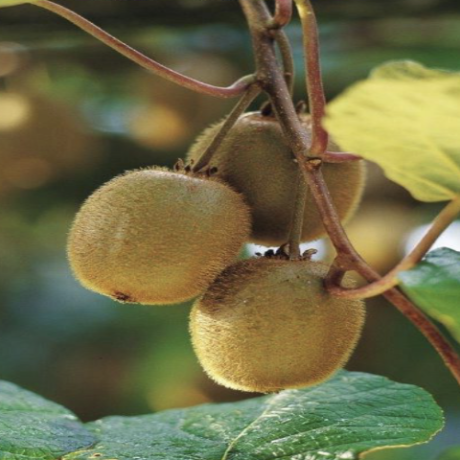kiwi: (161, 243, 380, 395), (170, 105, 364, 257), (52, 163, 257, 306)
